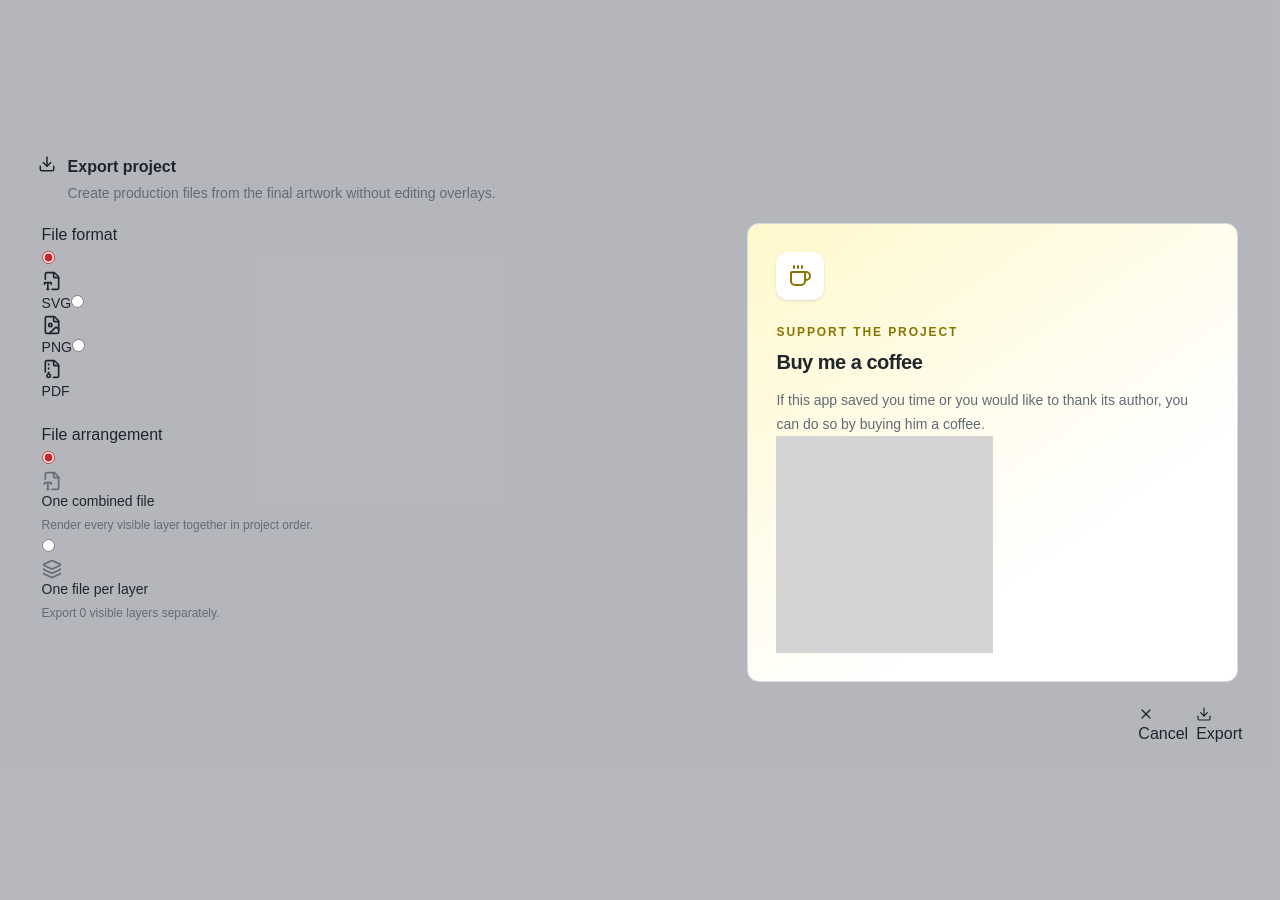
Test case: ExportModal › shows PDF format settings with actual size first and selected by default
Click the radio button labelled "PDF". click: [78, 345]
box: [72,338,85,352]
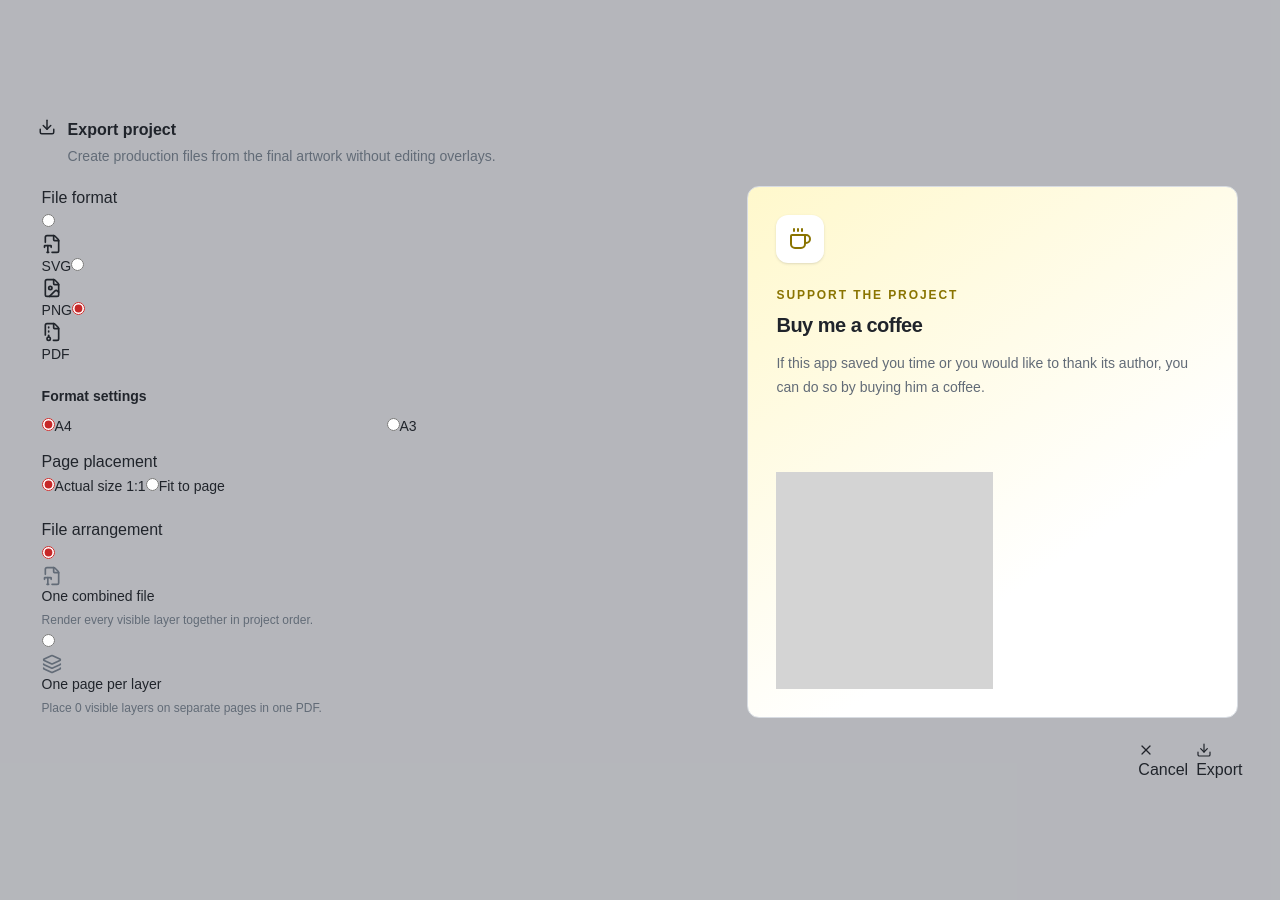
Expected: the radio button labelled "One page per layer" is shown, [42,634,55,647]
Result: the heading "Format settings" is shown at [42,388,147,404]
Result: the radio button labelled "Actual size 1:1" is checked at [42,478,55,491]
